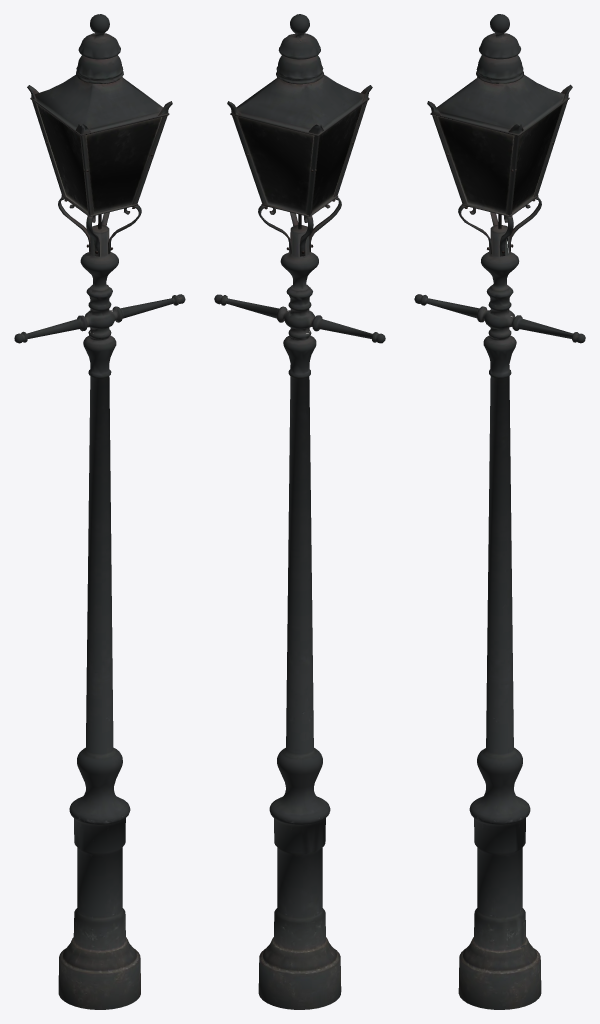
Rendered from street_lamp_01_lod1.glb.
3 views of the same model, side by side, from view 1: azimuth 30°, elevation 25°; view 2: azimuth 150°, elevation 25°; view 3: azimuth 330°, elevation 25° (orthographic).
Parts seen in each view (by area): view 1: street_lamp_01; view 2: street_lamp_01; view 3: street_lamp_01.
Boxes of the visible parts, x1,y1,x2,y2 form: street_lamp_01: [14, 14, 185, 1009]; street_lamp_01: [214, 14, 385, 1009]; street_lamp_01: [414, 14, 585, 1009].
Size of the model in its own units: 0.7039 by 3.87 by 0.3864.
Materials: 2 (2 with a texture image).
